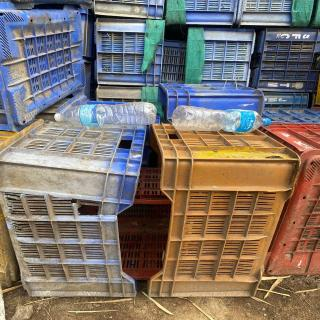Plastic-bottle: (52, 101, 160, 132), (170, 104, 276, 135)
